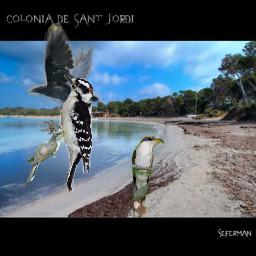Crow: (27, 23, 100, 112)
Cuckoo: (131, 135, 164, 217), (25, 131, 67, 186)
Woodpecker: (39, 74, 95, 193)
